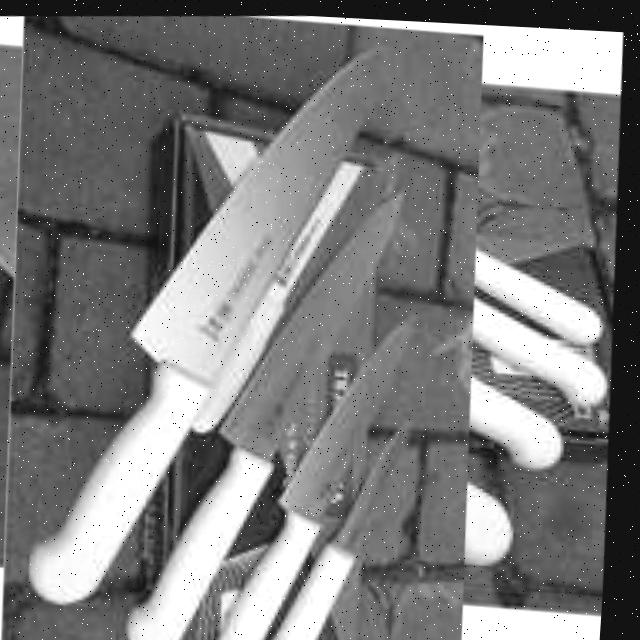knife: (4, 28, 416, 623), (111, 169, 434, 640), (199, 292, 445, 640), (257, 407, 434, 640)
